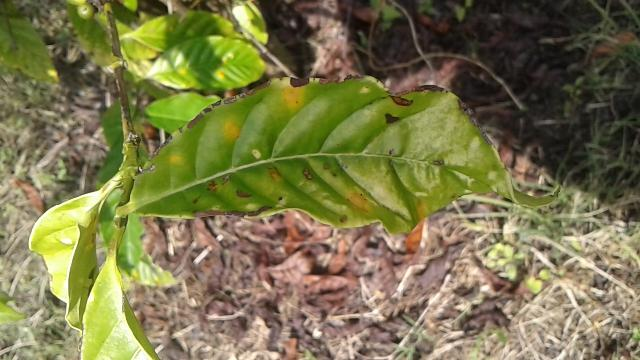rust_level_3: (126, 72, 566, 239)
